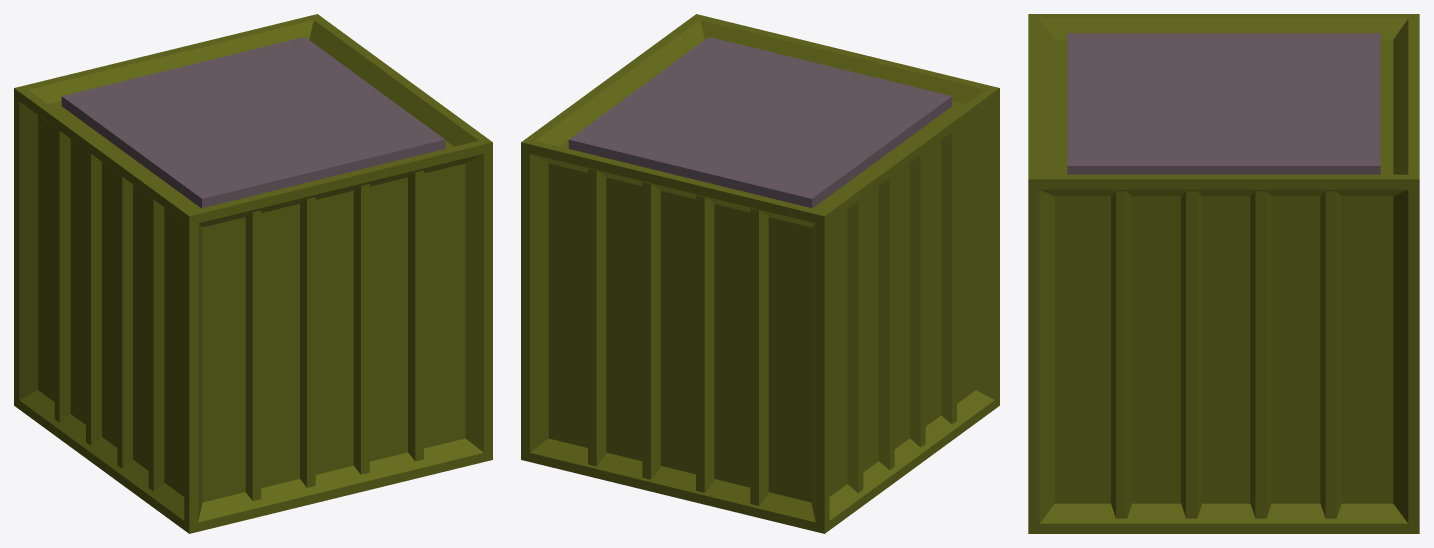
3 views of the same model, side by side, from view 1: azimuth 30°, elevation 25°; view 2: azimuth 150°, elevation 25°; view 3: azimuth 270°, elevation 25° (orthographic). The views are drawn at different scales.
Visible parts, largest first — view 1: Куб.010; view 2: Куб.010; view 3: Куб.010.
Part boxes in pixels (<box>): Куб.010: <box>14,14,492,533</box>; Куб.010: <box>521,14,999,533</box>; Куб.010: <box>1028,14,1419,533</box>.
Bounding box in the file's own units: 99 × 99 × 99.
